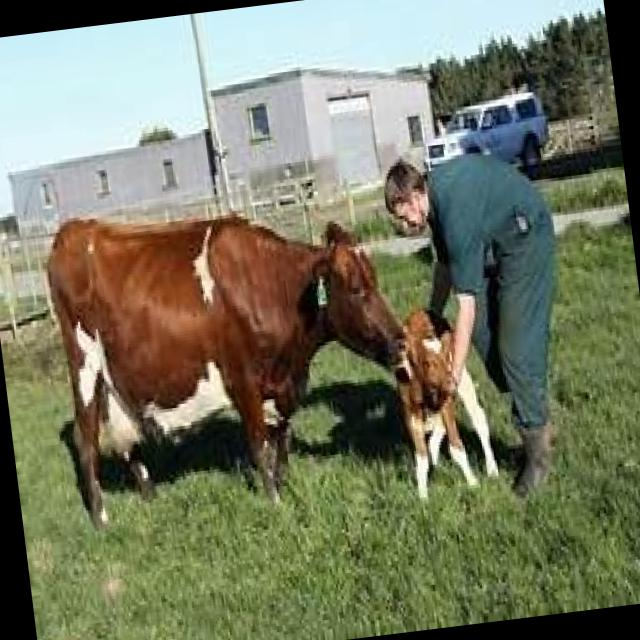cow: (37, 176, 430, 536), (387, 298, 502, 502)
